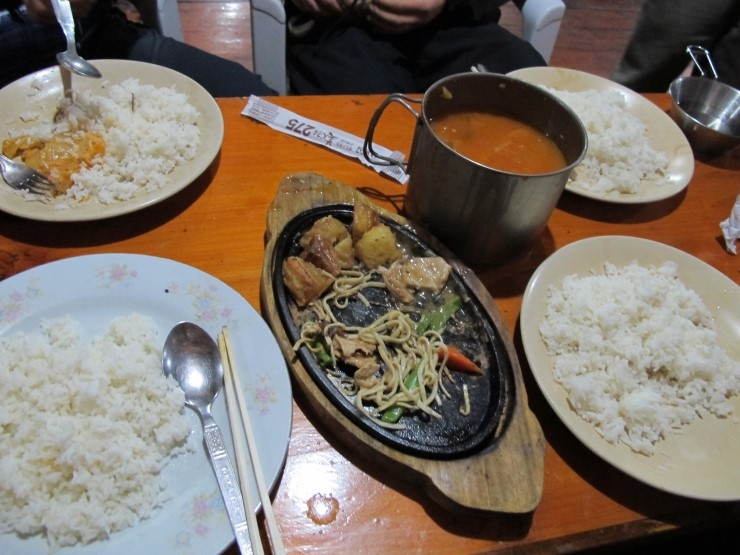plain rice: (30, 329, 167, 516), (566, 281, 716, 429), (108, 92, 191, 177), (584, 88, 651, 187)
